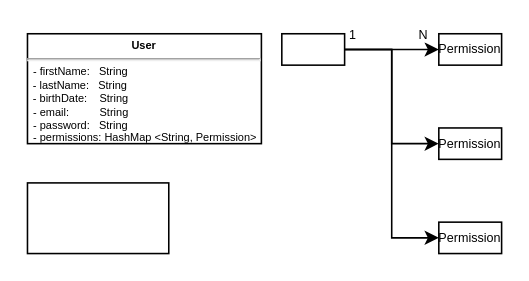
The diagram is 529 pixels wide and 281 high, and some of its shapes have lost their labels. The shapes that lost their labels are listed below. From the top down, each one's centre as x and y in pixels, then its label:
the point at 312,48: User
the point at 97,217: Permission + type: Enum.LEVEL + grantedDate: String
